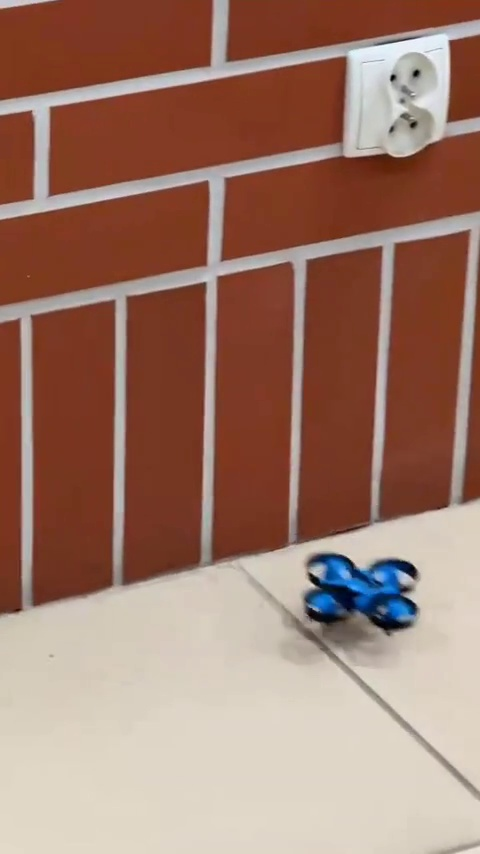drone: (294, 548, 420, 629)
